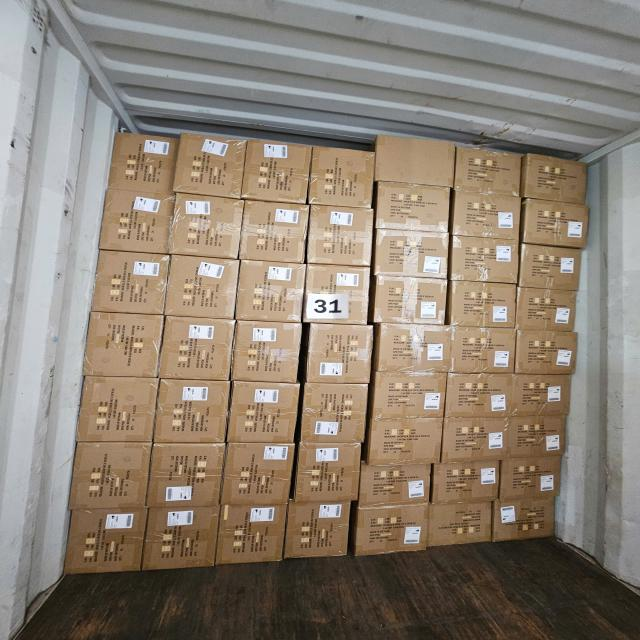Carton: (65, 511, 147, 578), (73, 444, 152, 512), (78, 376, 156, 444), (86, 314, 164, 379), (150, 445, 226, 510), (142, 509, 218, 573), (94, 250, 170, 314), (160, 318, 234, 382), (156, 380, 230, 444), (175, 134, 245, 201), (172, 192, 243, 256), (374, 132, 454, 188), (168, 257, 238, 320), (103, 193, 174, 255), (231, 322, 300, 385), (224, 444, 294, 506), (246, 141, 312, 206), (110, 134, 178, 197), (306, 262, 374, 324), (231, 384, 299, 446), (238, 260, 307, 321), (218, 508, 288, 568), (242, 199, 308, 261), (306, 324, 374, 384), (311, 147, 374, 211), (310, 203, 375, 265), (300, 386, 367, 444), (298, 443, 362, 502), (376, 326, 453, 374), (285, 501, 351, 557), (372, 228, 448, 276), (374, 184, 448, 233), (358, 508, 430, 556), (375, 277, 448, 324), (455, 193, 522, 242), (457, 145, 524, 194), (372, 418, 443, 464), (449, 280, 517, 328), (453, 238, 521, 286), (371, 375, 443, 420), (526, 156, 590, 205), (450, 328, 516, 375), (523, 200, 587, 248), (358, 467, 431, 508), (448, 376, 516, 419), (440, 417, 504, 462), (427, 506, 492, 549), (516, 331, 578, 375), (435, 463, 501, 504), (522, 247, 582, 292), (519, 286, 579, 331), (491, 501, 555, 540), (513, 377, 572, 418), (502, 460, 562, 500), (509, 417, 566, 458)
